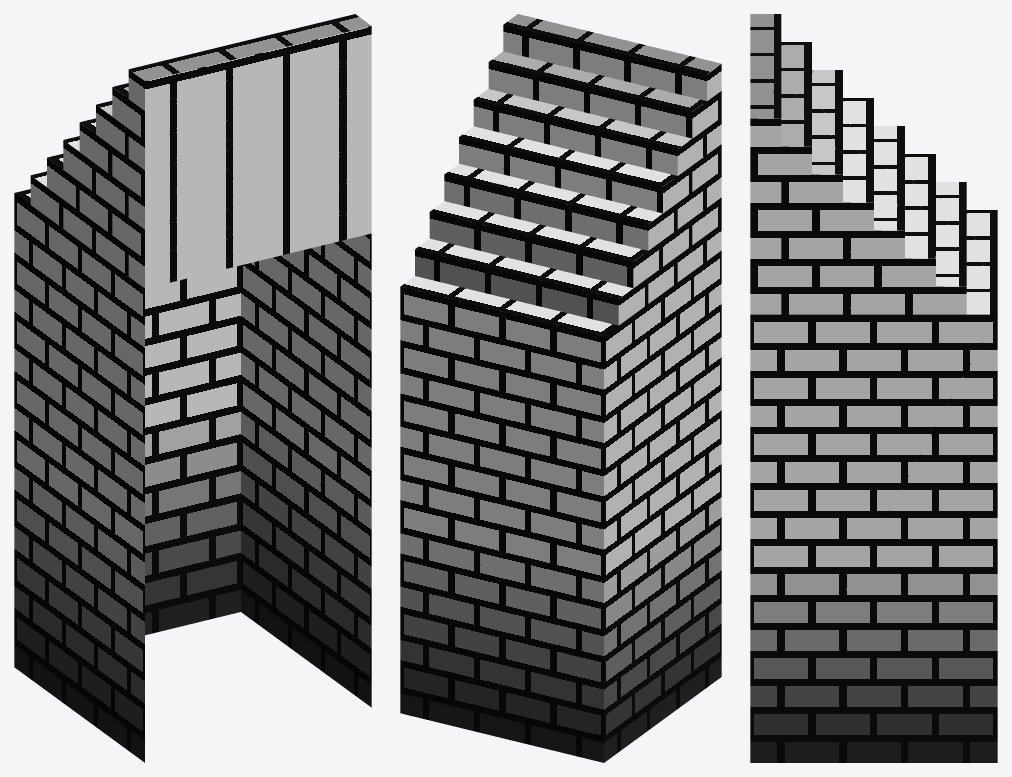
The model's file is TempSlope.fbx.
3 renders of one model, left to right at view 1: azimuth 30°, elevation 25°; view 2: azimuth 150°, elevation 25°; view 3: azimuth 270°, elevation 25°, orthographic. The views are drawn at different scales.
Parts seen in each view (by area): view 1: pPlane1; view 2: pPlane1; view 3: pPlane1.
Boxes of the visible parts, left/top/right/bottom form: pPlane1: left=14, top=14, right=371, bottom=762; pPlane1: left=400, top=14, right=721, bottom=762; pPlane1: left=750, top=14, right=997, bottom=762.
Size of the model in its own units: 20 by 57.5 by 20.
1 material, 1 textured.
